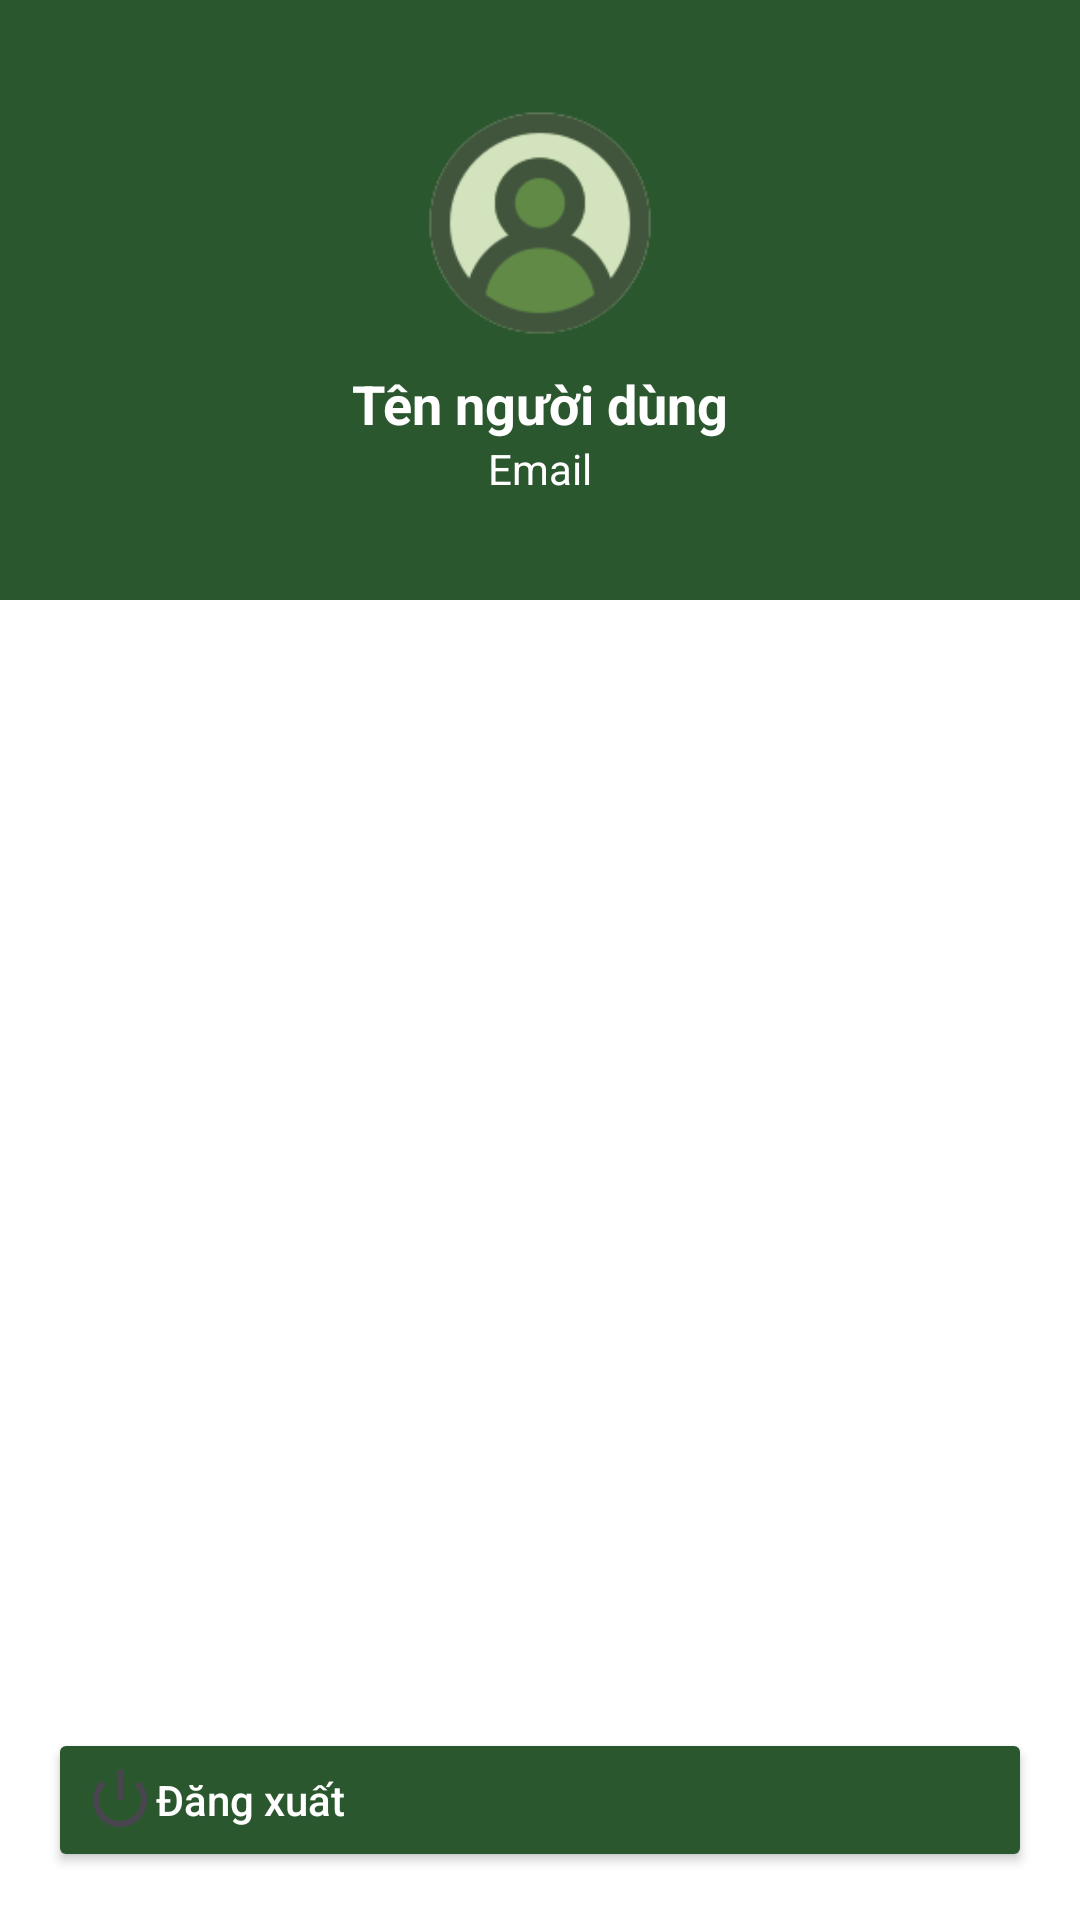

Icon bounding boxes for this 1080*1920 phone screenshot, format (x1, y1, x2, y2):
account: (429, 112, 651, 334)
